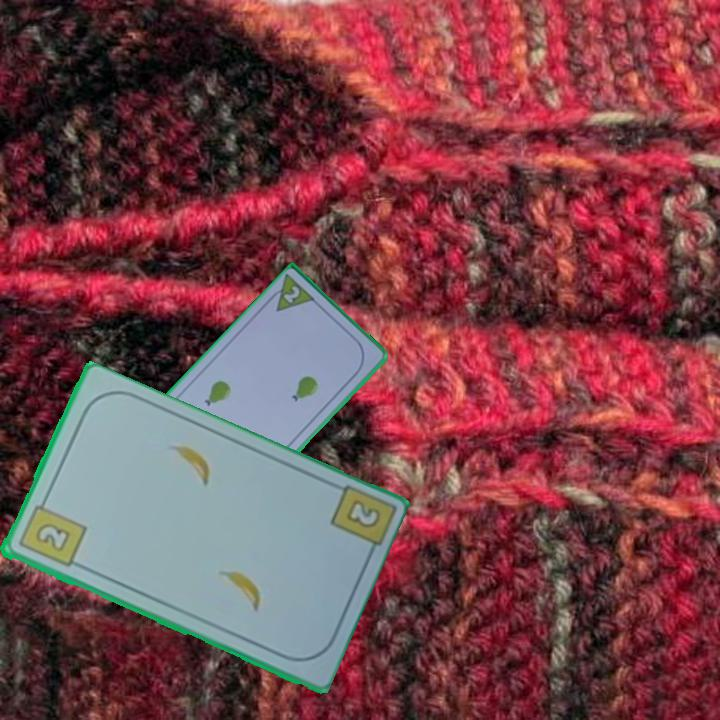2b: (14, 494, 88, 570), (342, 496, 383, 532)
2p: (279, 283, 303, 307)
